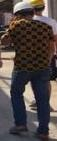boots: (9, 124, 28, 133), (0, 103, 5, 112)
hard-hat: (13, 2, 34, 14)
